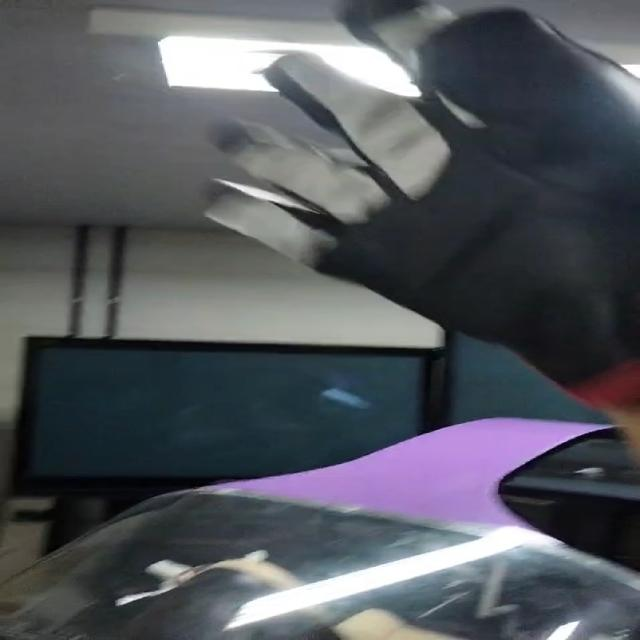Gloves: (201, 0, 640, 403)
